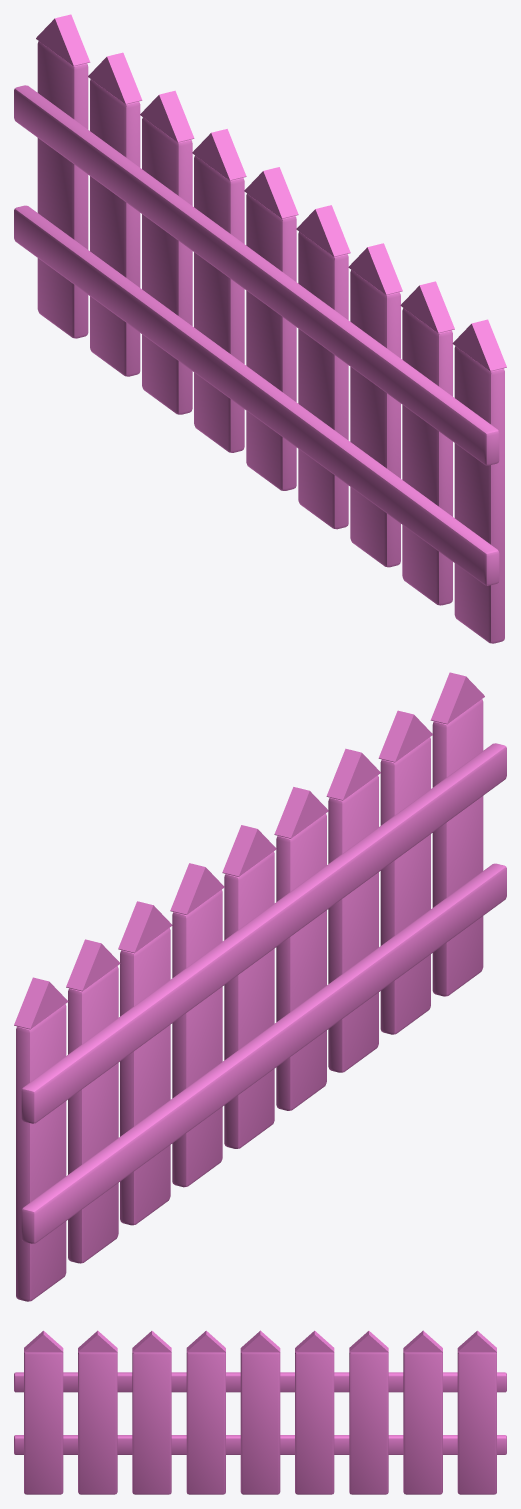
File: Street_Fence.fbx
The picture shows the model from 3 angles, top to bottom: view 1: azimuth 30°, elevation 25°; view 2: azimuth 150°, elevation 25°; view 3: azimuth 270°, elevation 25°; orthographic projection. The views are drawn at different scales.
Parts seen in each view (by area): view 1: Fence; view 2: Fence; view 3: Fence.
Part boxes in pixels (box(x1,y1,x2,y2)): Fence: box(14, 14, 506, 643); Fence: box(14, 672, 506, 1301); Fence: box(14, 1330, 506, 1494).
Bounding box in the file's own units: 0.37 × 3.6 × 10.
Materials: 1 (1 with a texture image).
